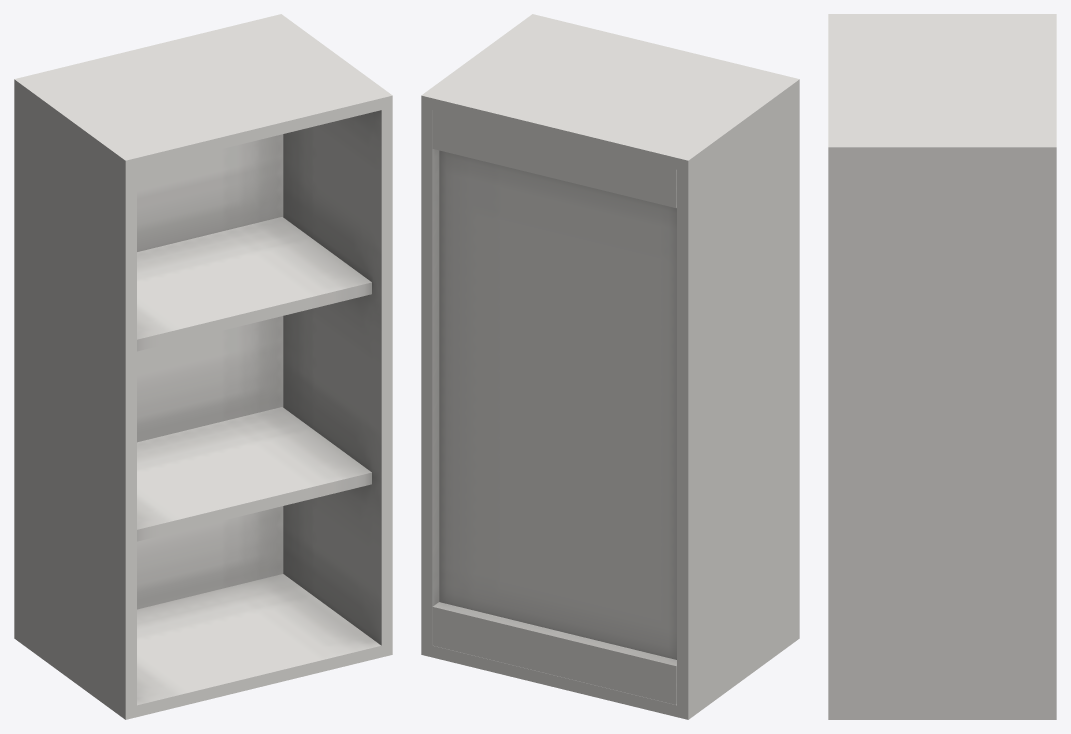
The model's file is wall-1-door-doors-off.glb.
The picture shows the model from 3 angles, left to right: view 1: azimuth 30°, elevation 25°; view 2: azimuth 150°, elevation 25°; view 3: azimuth 270°, elevation 25°; orthographic projection. The views are drawn at different scales.
Visible parts, largest first — view 1: part_0; view 2: part_0; view 3: part_0.
Part boxes in pixels (bbox=[...]): part_0: bbox=[14, 14, 392, 719]; part_0: bbox=[421, 14, 799, 719]; part_0: bbox=[828, 14, 1056, 719].
Size of the model in its own units: 0.4572 by 0.9144 by 0.3302.
1 material, 1 textured.
